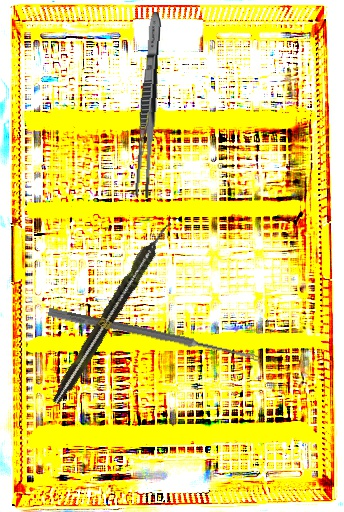Dressing Forceps: (133, 11, 165, 199)
Handpiece: (47, 217, 177, 408)
Surgical Spoon: (47, 307, 260, 363)
